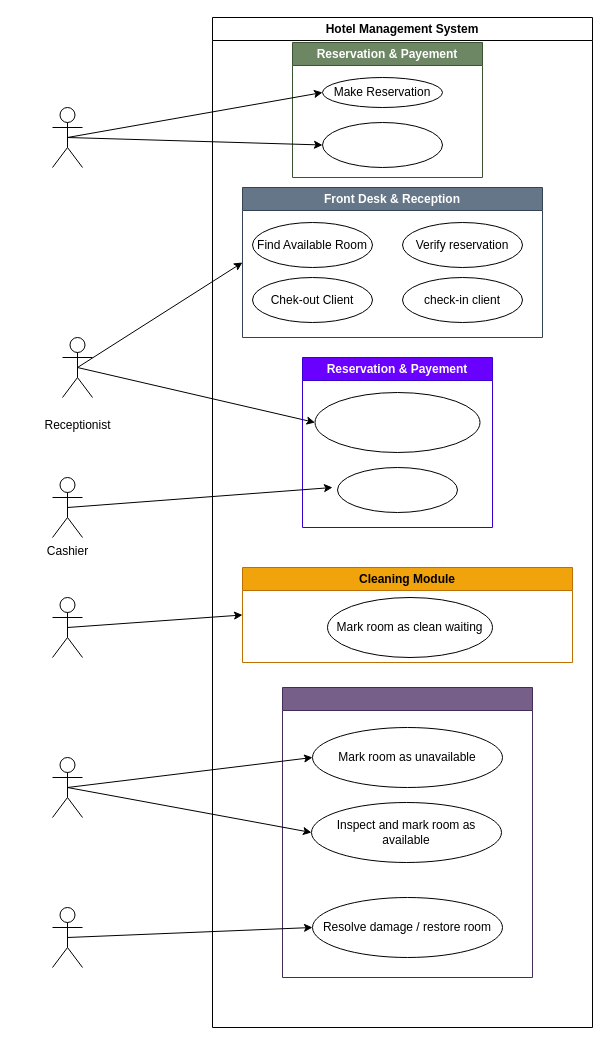
The diagram is 610 pixels wide and 1045 high, and some of its shapes have lost their labels. Each missing label, with the box of its shape:
Add Consumption to invoice: (336, 466, 458, 512)
Cleaning Staff: (52, 596, 82, 658)
Close stay and process payement: (314, 392, 480, 452)
Floor Manager: (52, 756, 82, 818)
Hotel Client: (52, 106, 82, 168)
Maintenance and quality: (282, 686, 532, 978)
Maintenance Staff: (52, 906, 82, 968)
Pay online (CIB Card): (322, 122, 442, 168)
